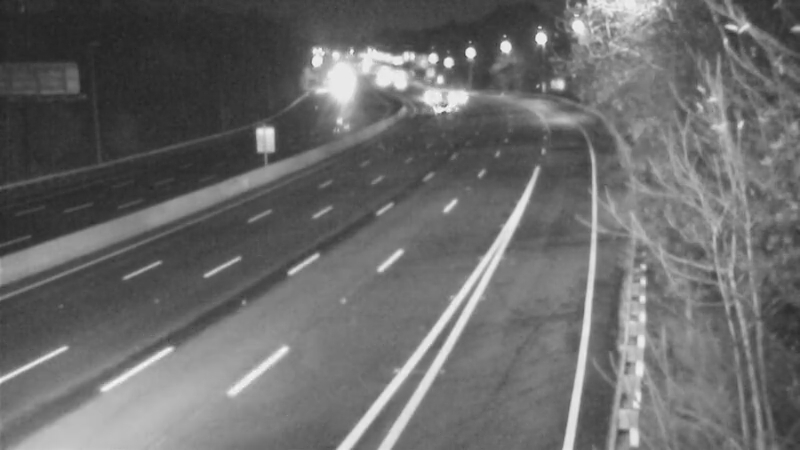vehicle: (405, 73, 455, 123), (431, 67, 481, 117), (417, 82, 467, 132)
